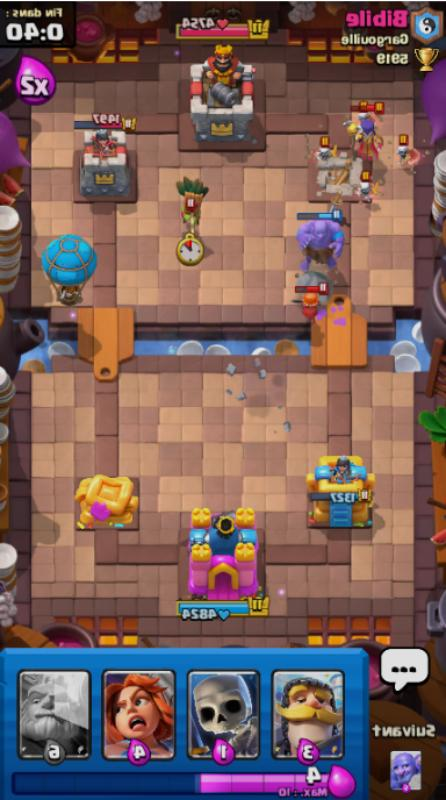squelette: (308, 124, 338, 166), (394, 132, 418, 178), (356, 168, 376, 204), (345, 108, 372, 122)
valkyrie: (288, 278, 330, 328)
